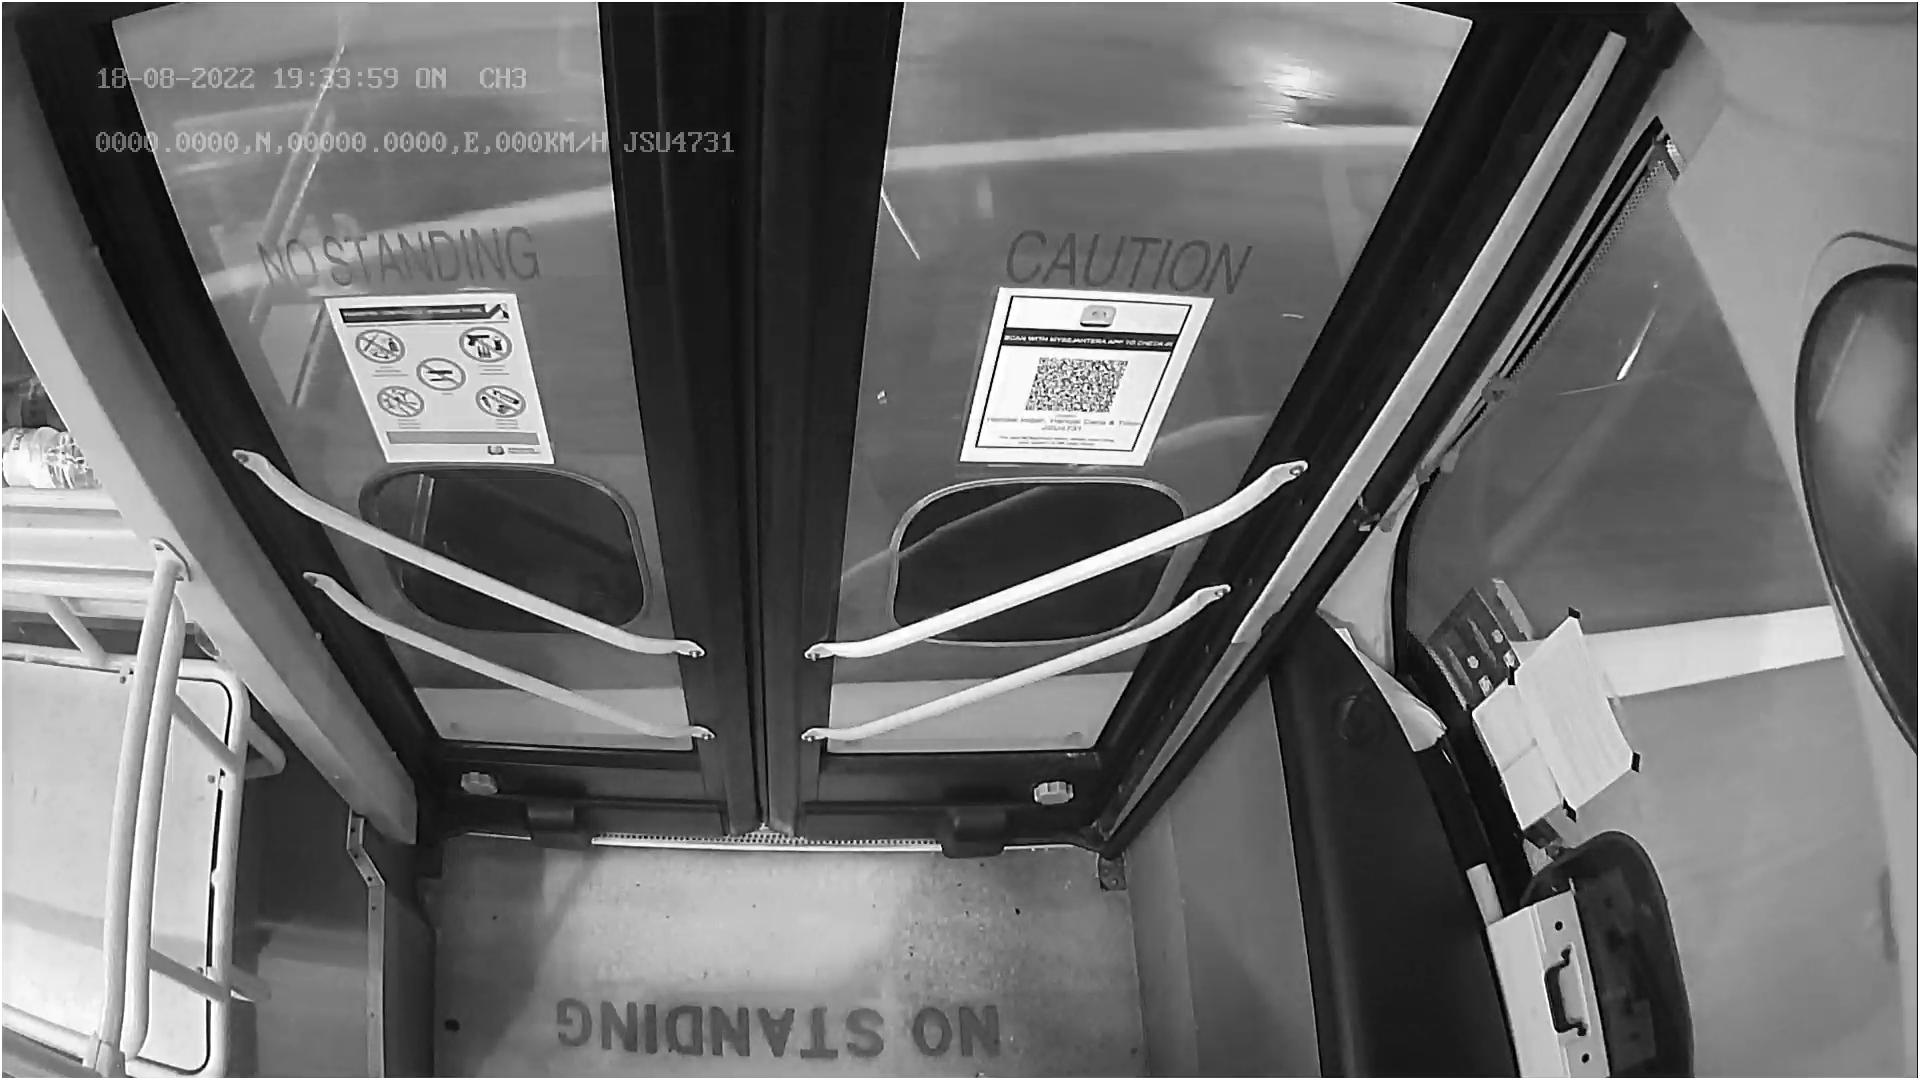close: (127, 0, 1455, 157)
